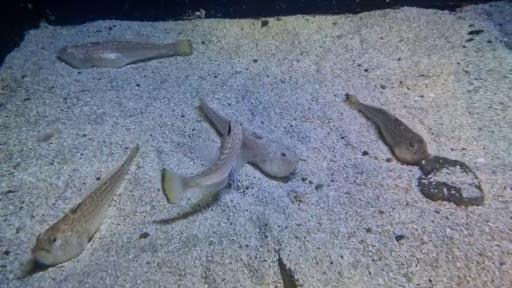Fish: (31, 144, 139, 266), (162, 122, 245, 203), (346, 94, 429, 165), (57, 39, 193, 69), (242, 127, 299, 178), (278, 251, 297, 287)
